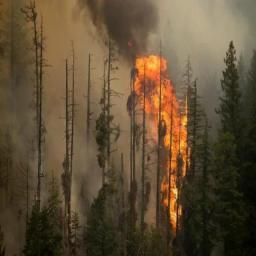Heavy smoke: (3, 2, 255, 255)
Medium fire: (120, 46, 199, 253)
